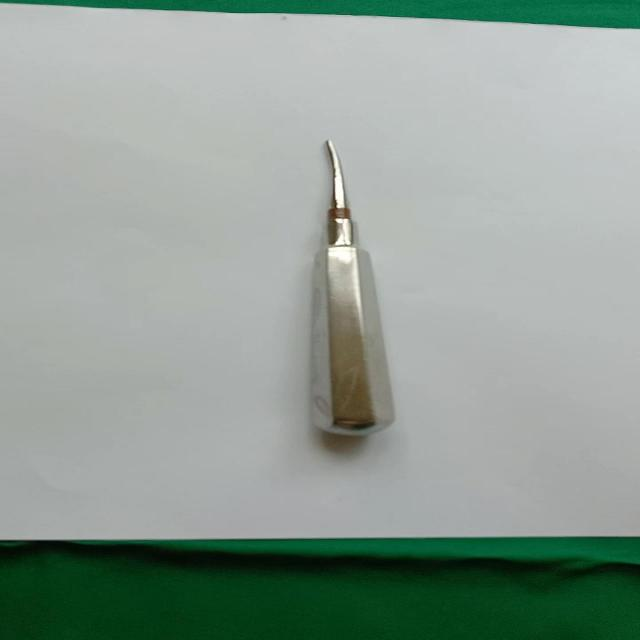Coupland1: (296, 135, 400, 442)
